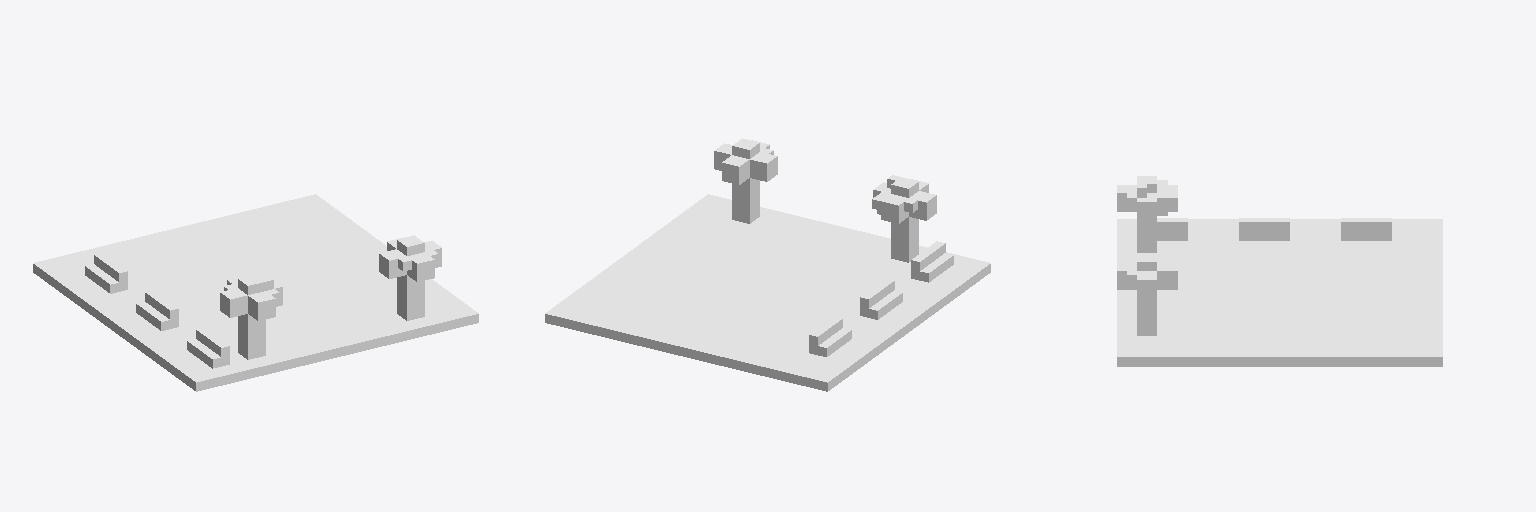
The model's file is lake1.1.obj.
The picture shows the model from 3 angles: view 1: azimuth 30°, elevation 25°; view 2: azimuth 150°, elevation 25°; view 3: azimuth 270°, elevation 25°; orthographic projection.
Visible parts, largest first — view 1: object 1; view 2: object 1; view 3: object 1.
Part boxes in pixels (x1,y1,x2,y2): object 1: (33, 194, 478, 391); object 1: (545, 138, 990, 391); object 1: (1117, 176, 1442, 366).
Size of the model in its own units: 3.2 by 0.9 by 3.2.